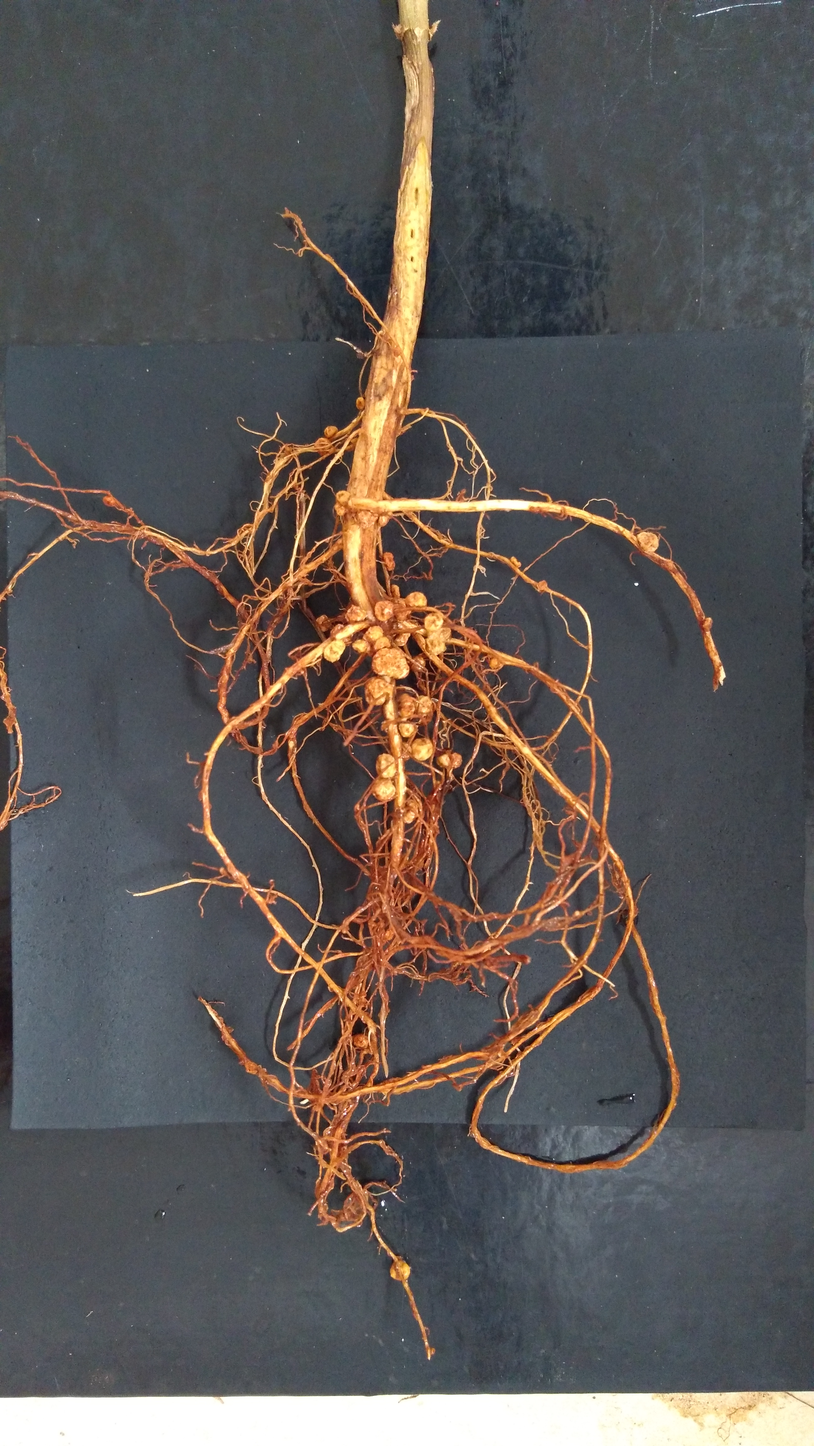nodule: (366, 646, 409, 681), (362, 675, 393, 707), (318, 638, 348, 665), (374, 752, 401, 779), (385, 1256, 411, 1282), (633, 529, 660, 554), (370, 778, 397, 802), (370, 600, 398, 622), (410, 738, 433, 762), (395, 692, 416, 717), (417, 695, 435, 724), (328, 623, 355, 642), (424, 636, 448, 657), (422, 610, 444, 631), (404, 590, 428, 609), (315, 612, 333, 637), (397, 720, 419, 740), (350, 1031, 373, 1050), (409, 652, 427, 675), (404, 801, 420, 826), (346, 604, 366, 623), (362, 625, 385, 641), (350, 638, 373, 654), (393, 628, 411, 648), (314, 438, 332, 455), (429, 627, 452, 640), (351, 393, 366, 412), (100, 494, 119, 509), (382, 552, 396, 572), (449, 751, 463, 770), (335, 489, 351, 505), (488, 653, 502, 671), (371, 636, 391, 648), (389, 583, 402, 600), (436, 754, 450, 768), (333, 503, 348, 516), (324, 424, 338, 437), (509, 556, 522, 570), (377, 515, 390, 527), (537, 578, 547, 592), (386, 509, 394, 518)
